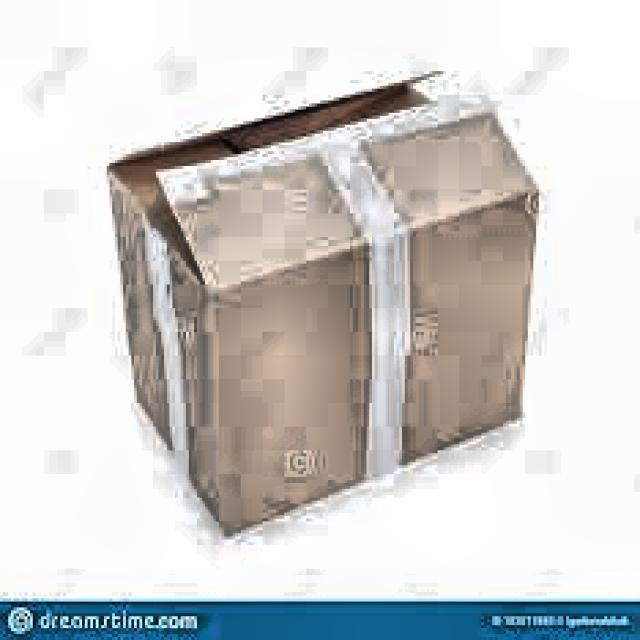cardboard: (104, 68, 539, 536)
